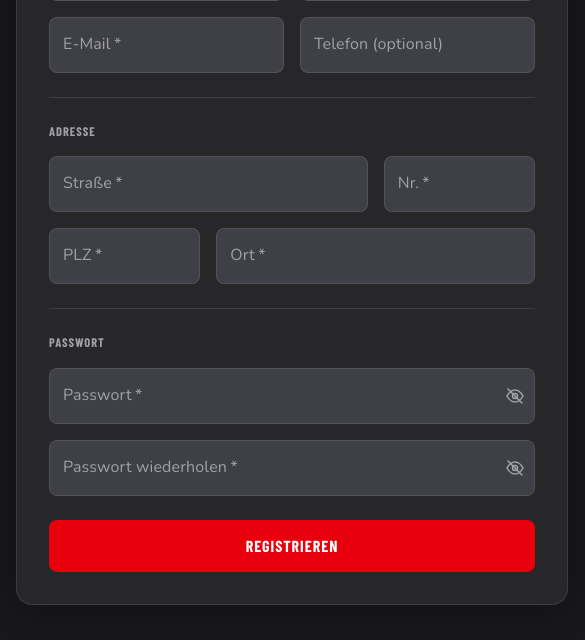
Scenario: US16 – Registrierungsformular (Black-Box) › Passwörter unterschiedlich → Fehler "Passwörter stimmen nicht überein"
(page scrolled)
In the password field labelled "Passwort *": (269, 396) x1=49 y1=368 x2=489 y2=424, type "Abcd1234"
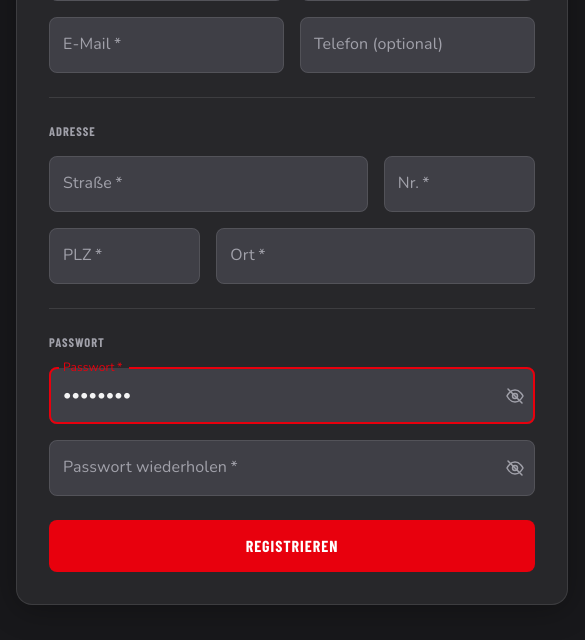
In the password field labelled "Passwort wiederholen *": (269, 468) x1=49 y1=440 x2=489 y2=496, type "Abcd9999"
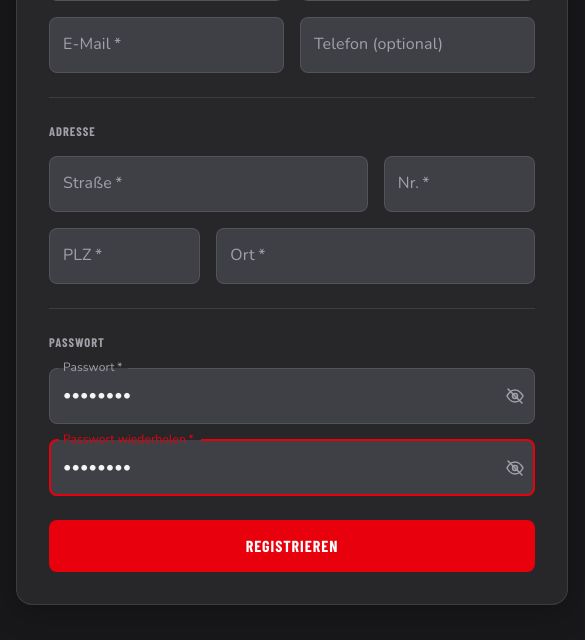
Click the button "Registrieren": (292, 546) x1=49 y1=520 x2=535 y2=572
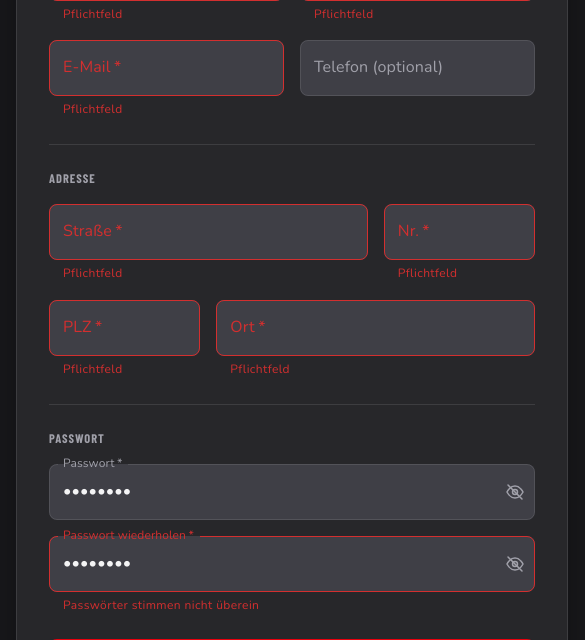
Result: the element labelled "Passwort wiederholen * Passwörter stimmen nicht überein" is shown at x1=49 y1=536 x2=535 y2=616
